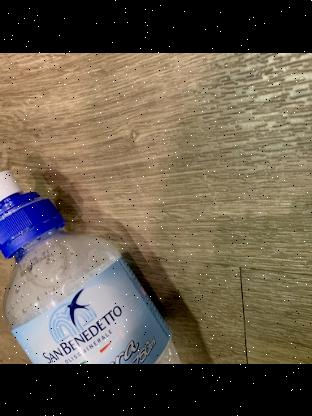Plastic Bottle: (0, 165, 186, 363)
